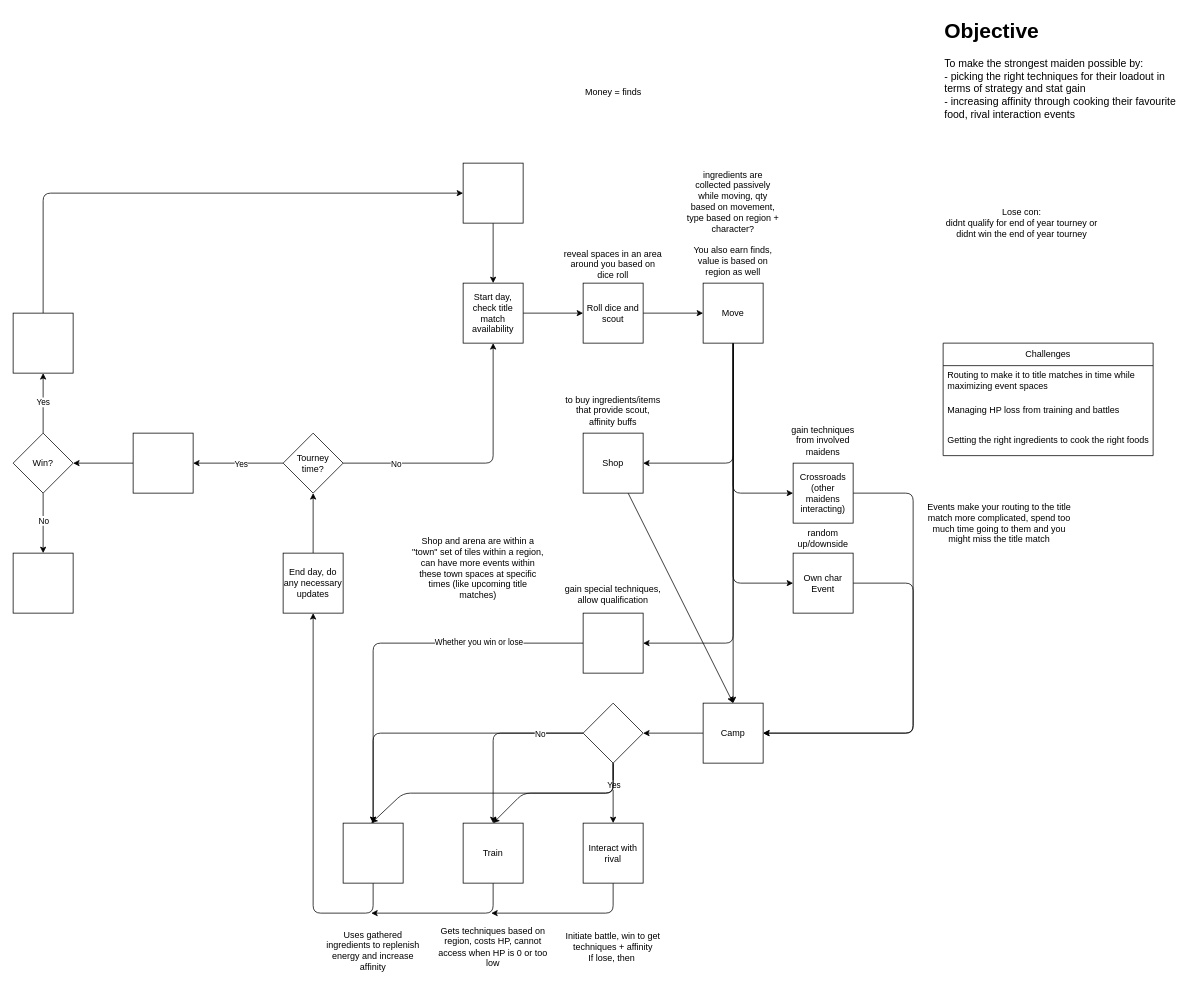
The diagram is 1196 pixels wide and 993 high, and some of its shapes have lost their labels. The shapes that lost their labels are listed below. From the top down, each one's box as (x1, y1, x2, y2) in pixels, then its label:
(462, 162, 523, 223): Player decides which location they start
(12, 312, 73, 373): Proceed to the next loop, do necessary updates
(132, 432, 193, 493): Run the tourney
(12, 552, 73, 613): Run lost
(582, 612, 643, 673): Title match (Arena)
(582, 702, 643, 763): Got Rival?
(342, 822, 403, 883): Cook and rest
